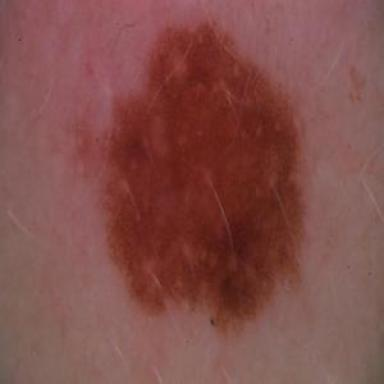Melanoma: (101, 22, 304, 328)
